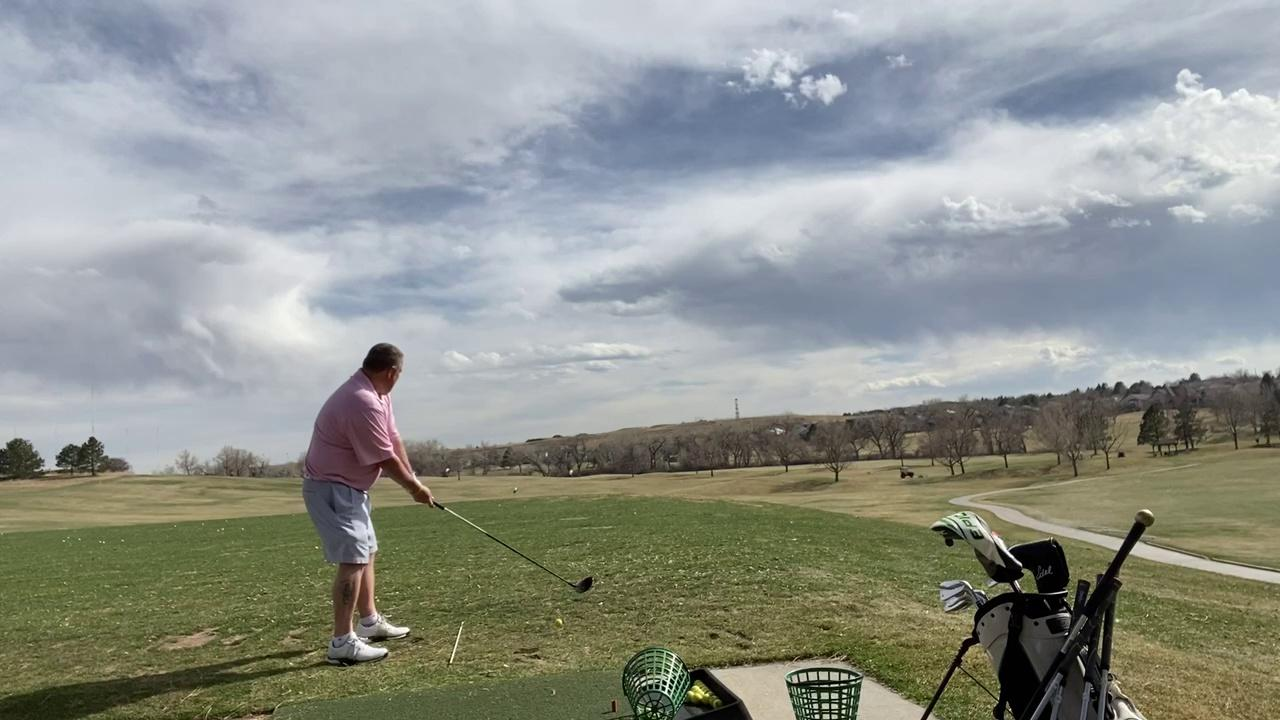ClubHead: (565, 569, 604, 601)
GolfBall: (551, 615, 567, 632)
